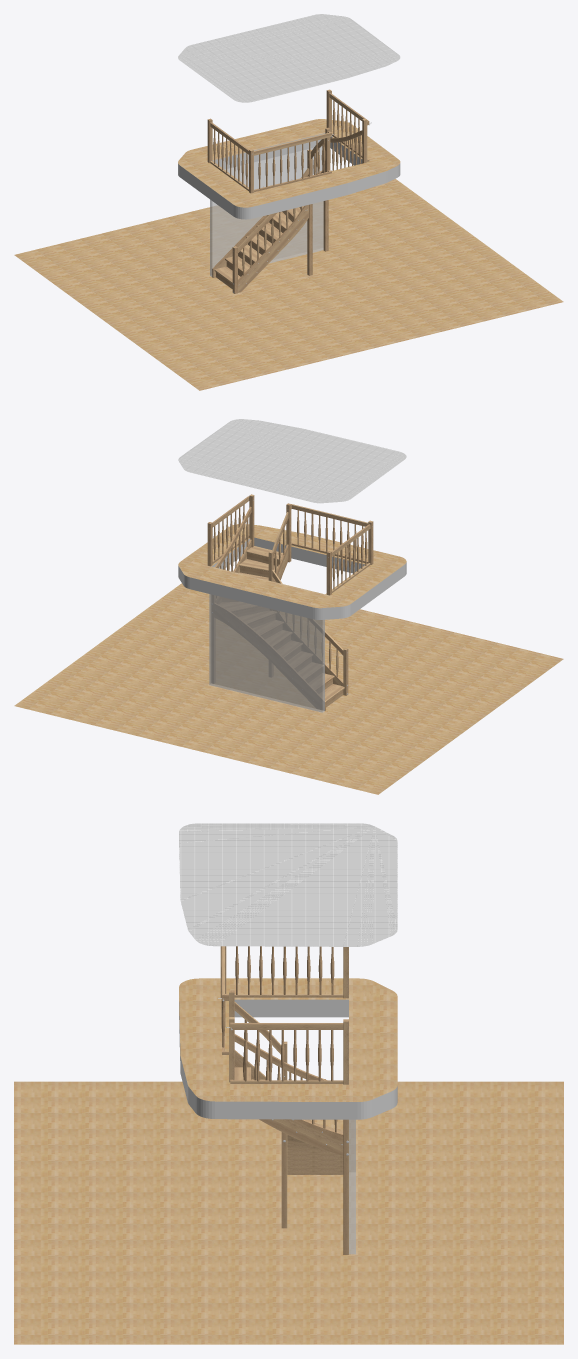
The model's file is Olyga Toksovo.dae.
The picture shows the model from 3 angles, top to bottom: view 1: azimuth 30°, elevation 25°; view 2: azimuth 150°, elevation 25°; view 3: azimuth 270°, elevation 25°; orthographic projection. The views are drawn at different scales.
Visible parts, largest first — view 1: StairCon (×8); view 2: StairCon (×8); view 3: StairCon (×10).
Part boxes in pixels (x1,y1,x2,y2): StairCon (×8): (14, 14, 563, 390); StairCon (×8): (14, 419, 563, 794); StairCon (×10): (14, 823, 563, 1344).
Size of the model in its own units: 8.98 by 7.93 by 5.22.
Materials: 15 (9 with a texture image).
